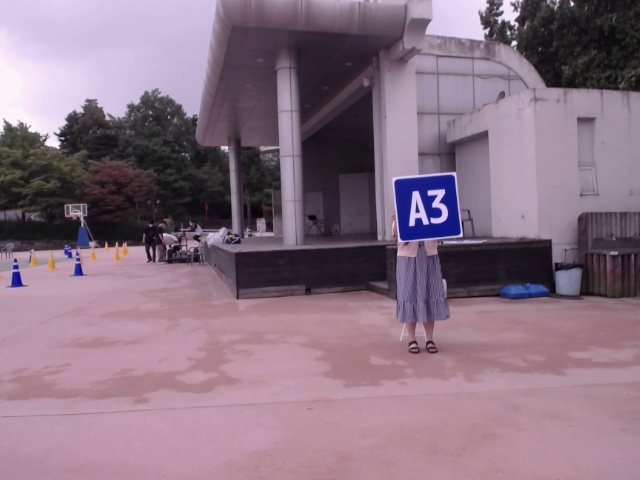delivery_a3: (393, 174, 462, 242)
